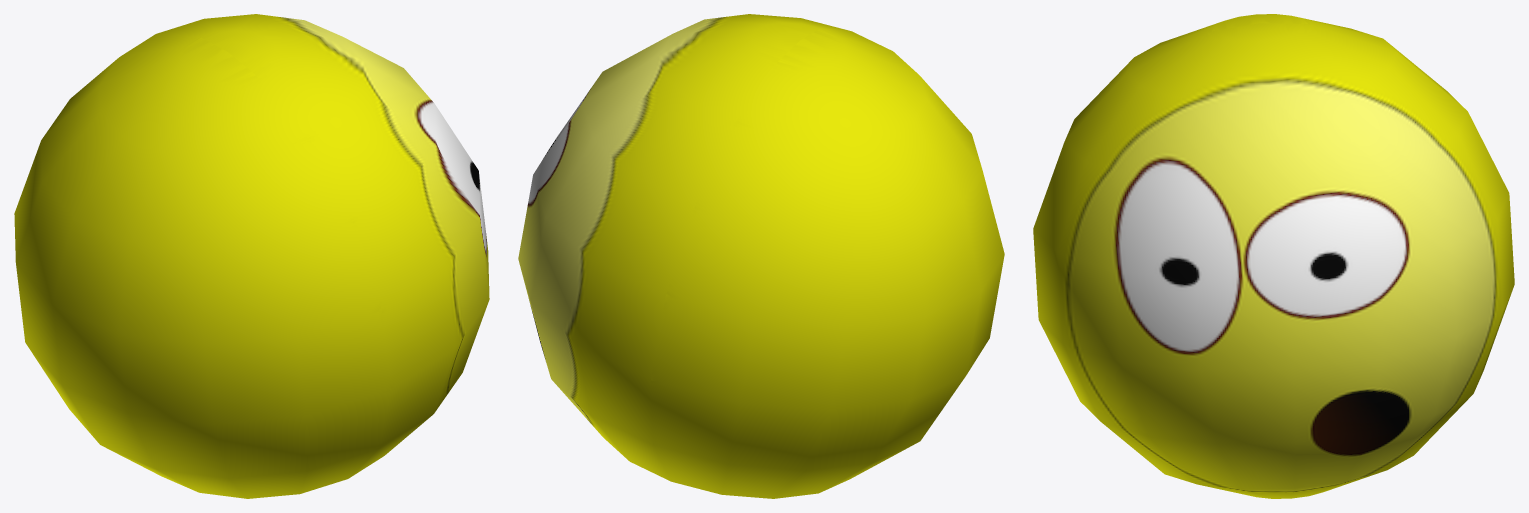
File: yellow_ball.glb
3 renders of one model, left to right at view 1: azimuth 30°, elevation 25°; view 2: azimuth 150°, elevation 25°; view 3: azimuth 270°, elevation 25°, orthographic.
Parts seen in each view (by area): view 1: 3; view 2: 3; view 3: 3.
Part boxes in pixels (x1,y1,x2,y2): 3: (14,14,489,498); 3: (518,14,1004,498); 3: (1033,14,1514,498).
Size of the model in its own units: 1.01 by 1.01 by 1.
Materials: 1 (1 with a texture image).
